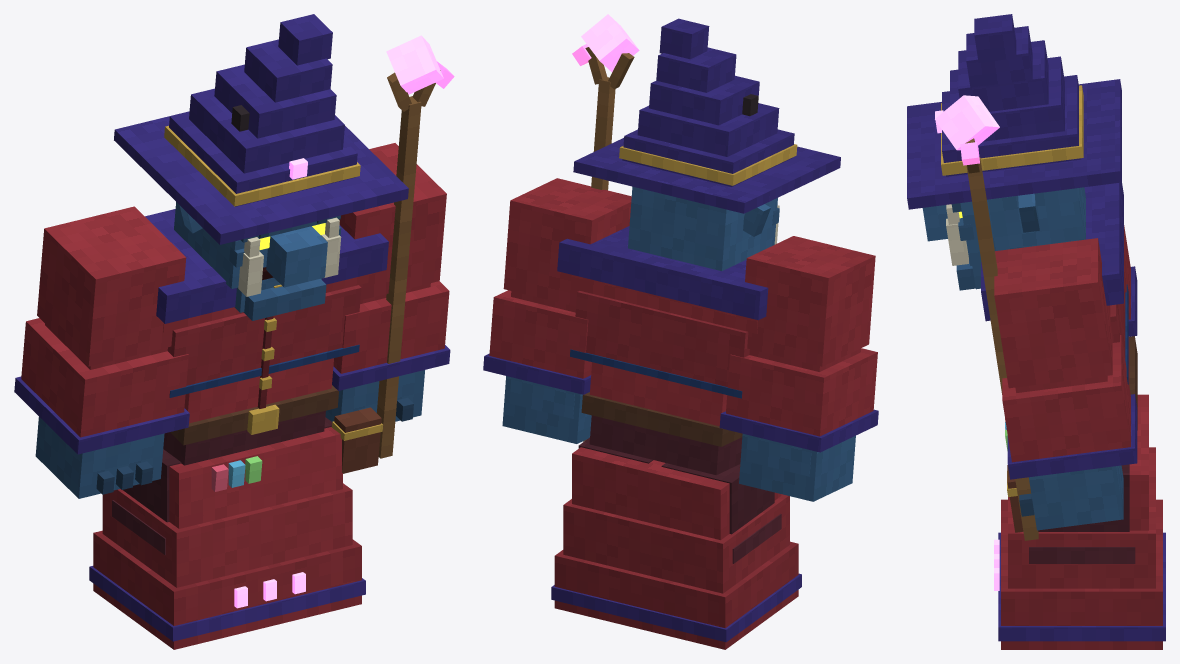
The model's file is ogre_mage_v3.glb.
The picture shows the model from 3 angles, left to right: view 1: azimuth 30°, elevation 25°; view 2: azimuth 150°, elevation 25°; view 3: azimuth 270°, elevation 25°; orthographic projection. The views are drawn at different scales.
Parts seen in each view (by area): view 1: Head, Root, ArmR, Torso, ArmL, HandL, LegR; view 2: Root, Torso, Head, ArmR, ArmL, HandL, LegR; view 3: Head, ArmL, Root, Torso, HandL, LegL, ArmR.
Boxes of the visible parts, x1,y1,x2,y2 form: Head: [114, 14, 408, 320]; Root: [89, 427, 365, 649]; ArmR: [14, 206, 189, 498]; Torso: [145, 209, 388, 491]; ArmL: [325, 143, 450, 421]; HandL: [377, 35, 454, 458]; LegR: [112, 449, 181, 554]; Root: [551, 447, 801, 649]; Torso: [557, 226, 768, 475]; Head: [573, 18, 840, 271]; ArmR: [719, 236, 878, 501]; ArmL: [483, 178, 631, 443]; HandL: [572, 14, 639, 441]; LegR: [661, 463, 781, 563]; Head: [907, 14, 1121, 290]; ArmL: [994, 238, 1137, 530]; Root: [994, 394, 1165, 649]; Torso: [981, 182, 1137, 532]; HandL: [935, 95, 1038, 540]; LegL: [1029, 464, 1135, 563]; ArmR: [1124, 225, 1137, 336].
Size of the model in its own units: 1.54 by 2.36 by 0.9262.
Materials: 40 (40 with a texture image).
